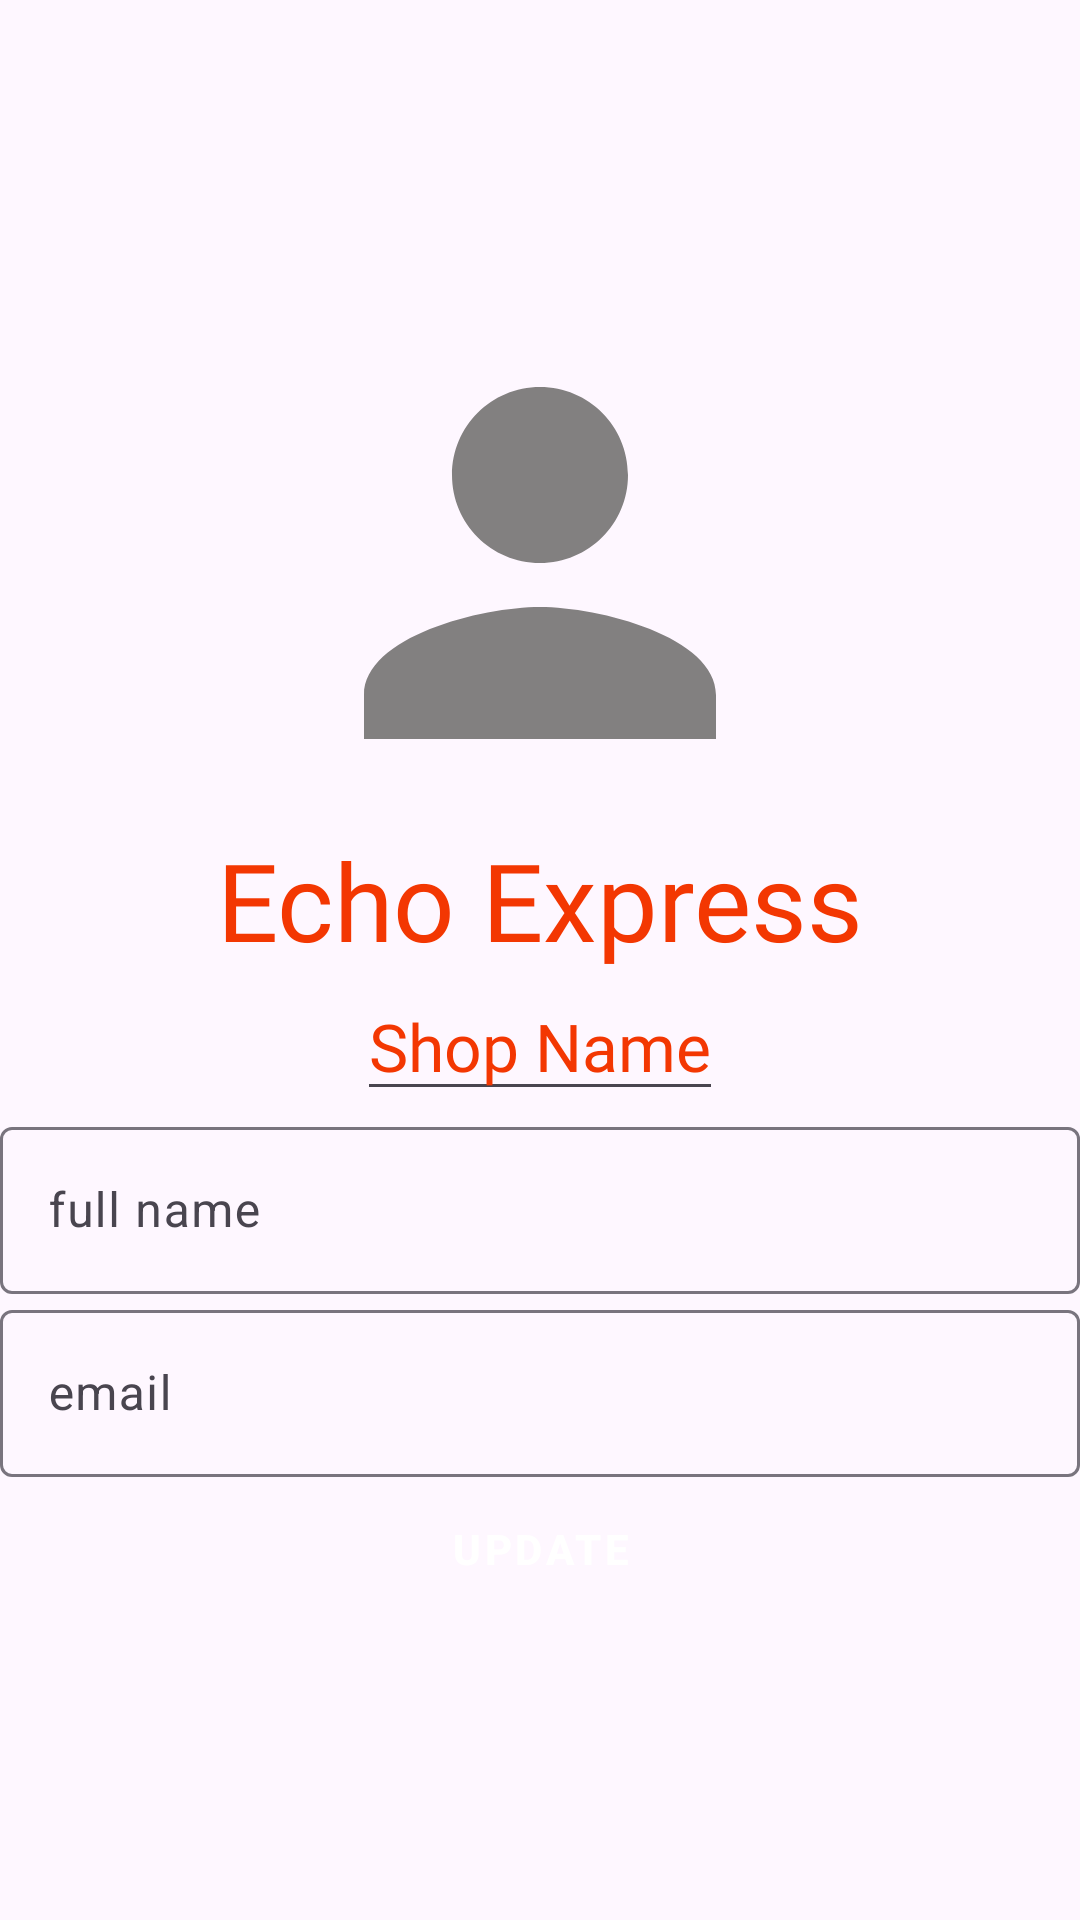

Where icons sit on this 1080px×1920px app screen, as Rect(x1, y1, x2, y2):
person: Rect(364, 387, 716, 739)
